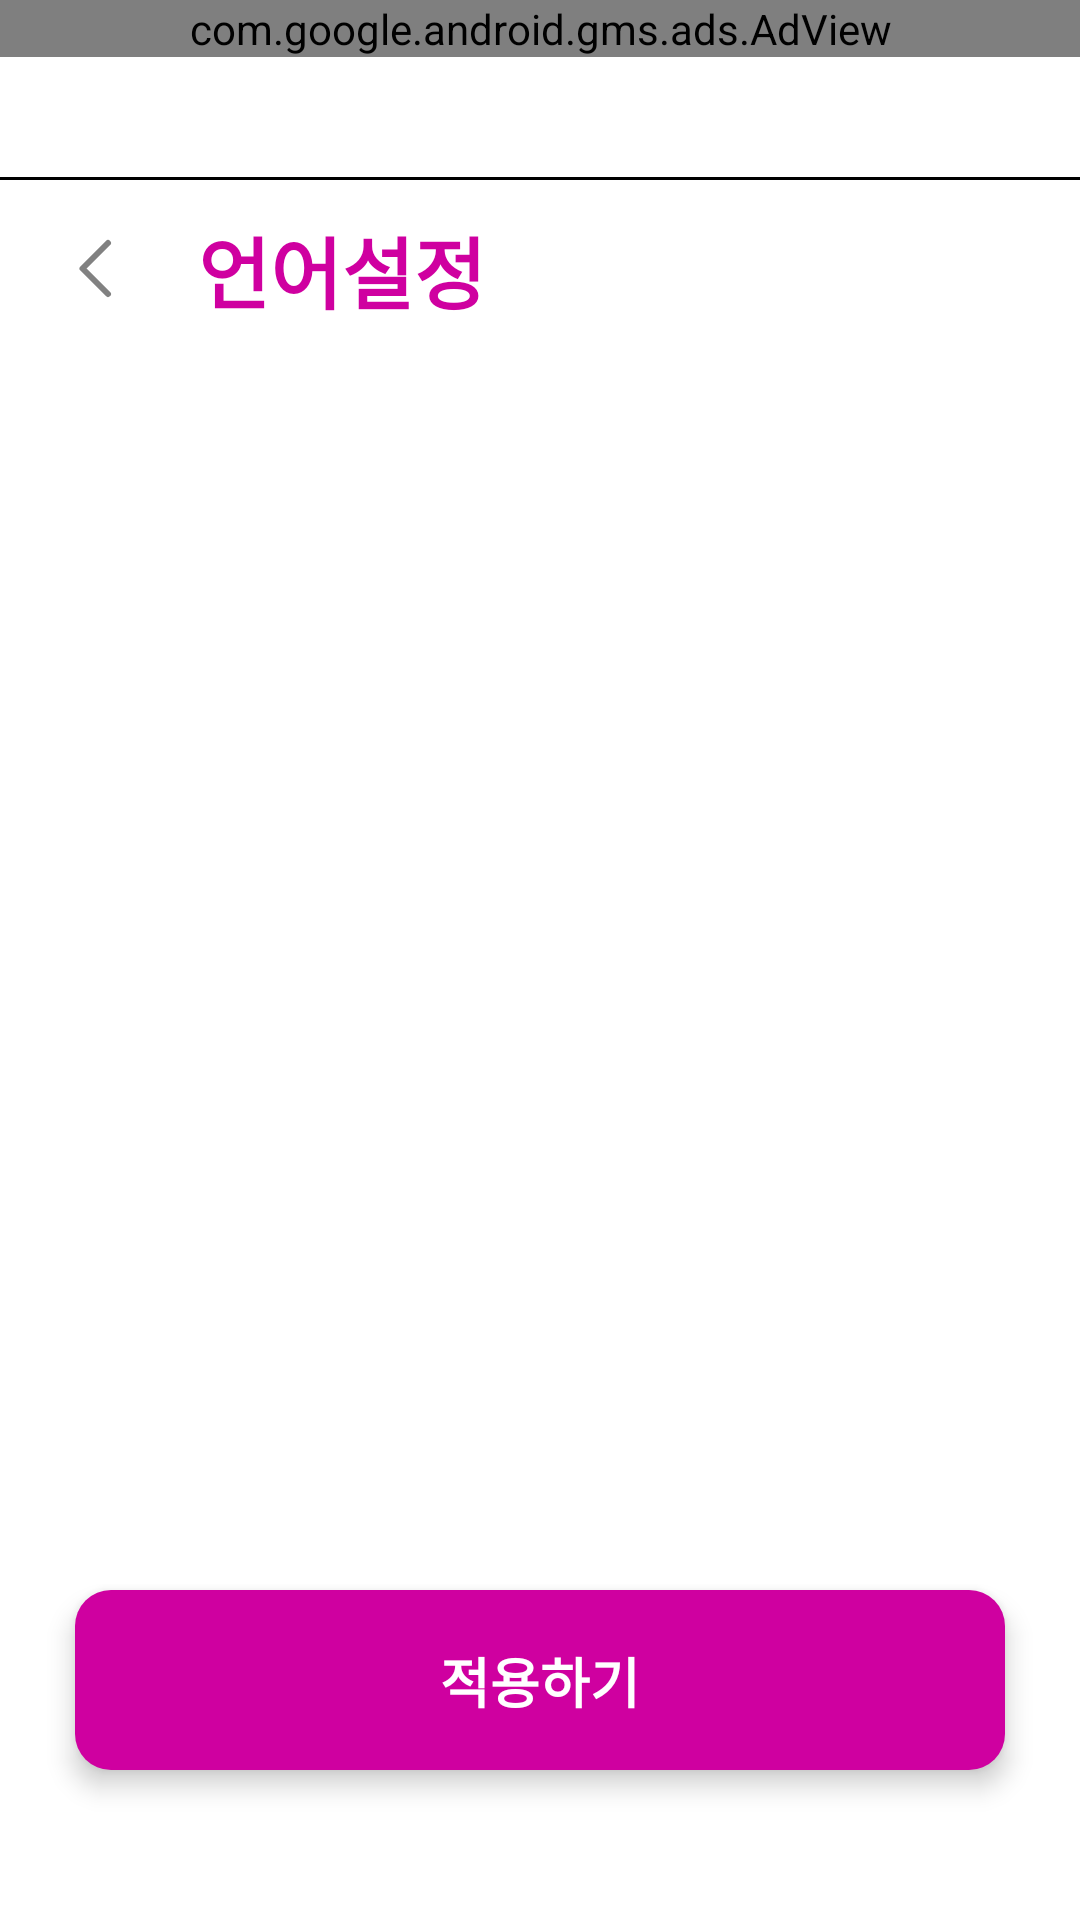

Icon bounding boxes for this 1080px×1920px phone screenshot, format (x1, y1, x2, y2):
back: (79, 240, 111, 297)
